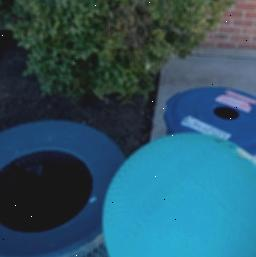algae: (102, 134, 256, 257)
